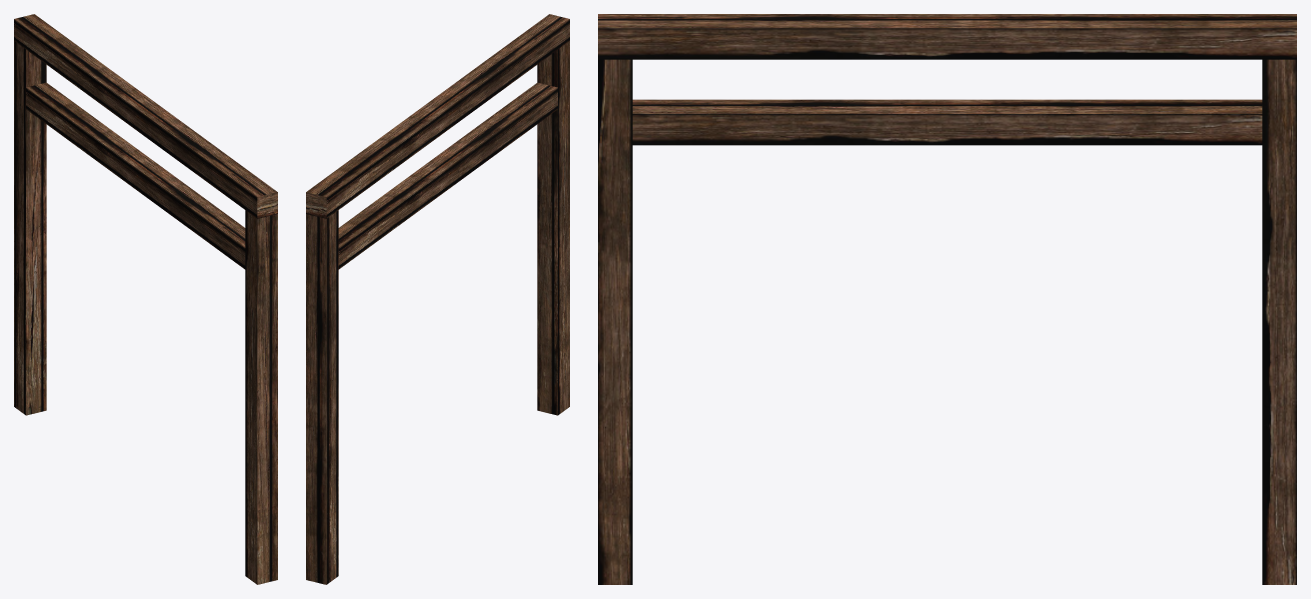
File: maze-entrance.fbx
3 renders of one model, left to right at view 1: azimuth 30°, elevation 25°; view 2: azimuth 150°, elevation 25°; view 3: azimuth 270°, elevation 25°, orthographic. The views are drawn at different scales.
Parts seen in each view (by area): view 1: Plane.067; view 2: Plane.067; view 3: Plane.067.
Boxes of the visible parts, left/top/right/bottom form: Plane.067: left=14, top=14, right=277, bottom=584; Plane.067: left=306, top=14, right=569, bottom=584; Plane.067: left=598, top=14, right=1296, bottom=584.
Bounding box in the file's own units: 31.67 × 574 × 653.
